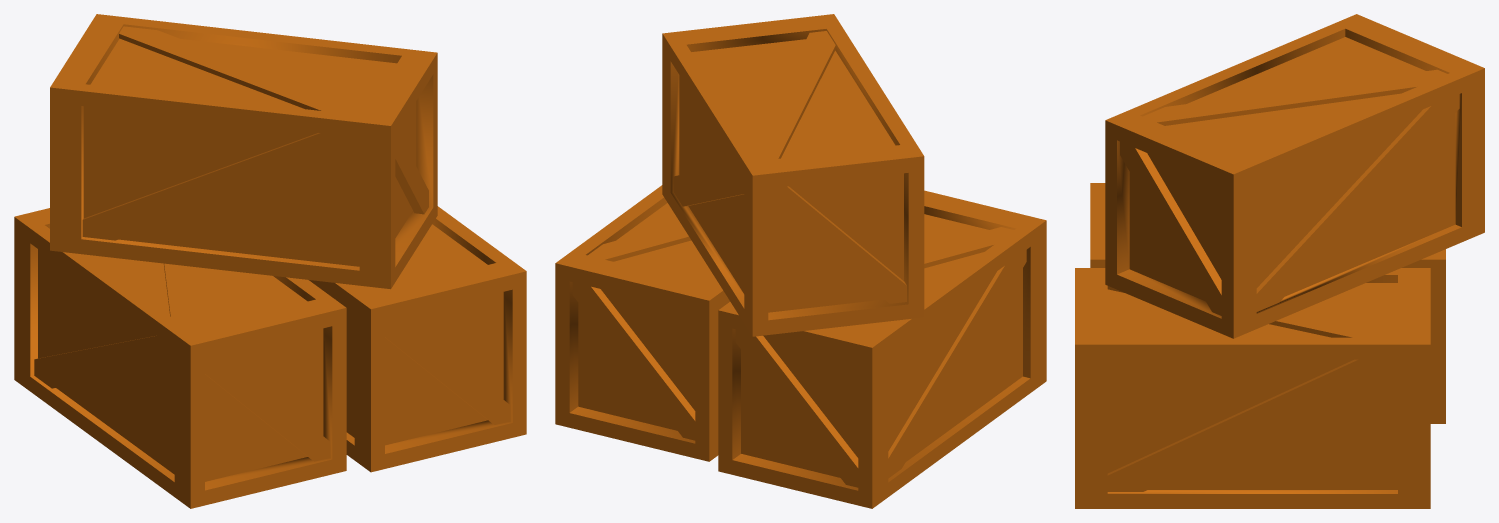
File: Prop_Boxes_E.fbx
The picture shows the model from 3 angles, left to right: view 1: azimuth 30°, elevation 25°; view 2: azimuth 150°, elevation 25°; view 3: azimuth 270°, elevation 25°; orthographic projection. The views are drawn at different scales.
Visible parts, largest first — view 1: Prop_Boxes_E; view 2: Prop_Boxes_E; view 3: Prop_Boxes_E.
Boxes of the visible parts, x1,y1,x2,y2 form: Prop_Boxes_E: (14,14,526,508); Prop_Boxes_E: (555,14,1046,508); Prop_Boxes_E: (1075,14,1484,508).
Bounding box in the file's own units: 149 × 143 × 132.
